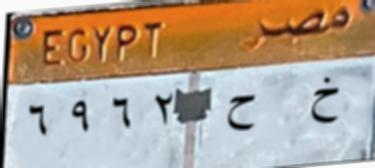2: (146, 89, 176, 123)
6: (108, 94, 138, 133), (24, 102, 52, 140)
7aa: (222, 90, 261, 140)
9: (67, 97, 93, 136)
khaa: (304, 66, 344, 126)
